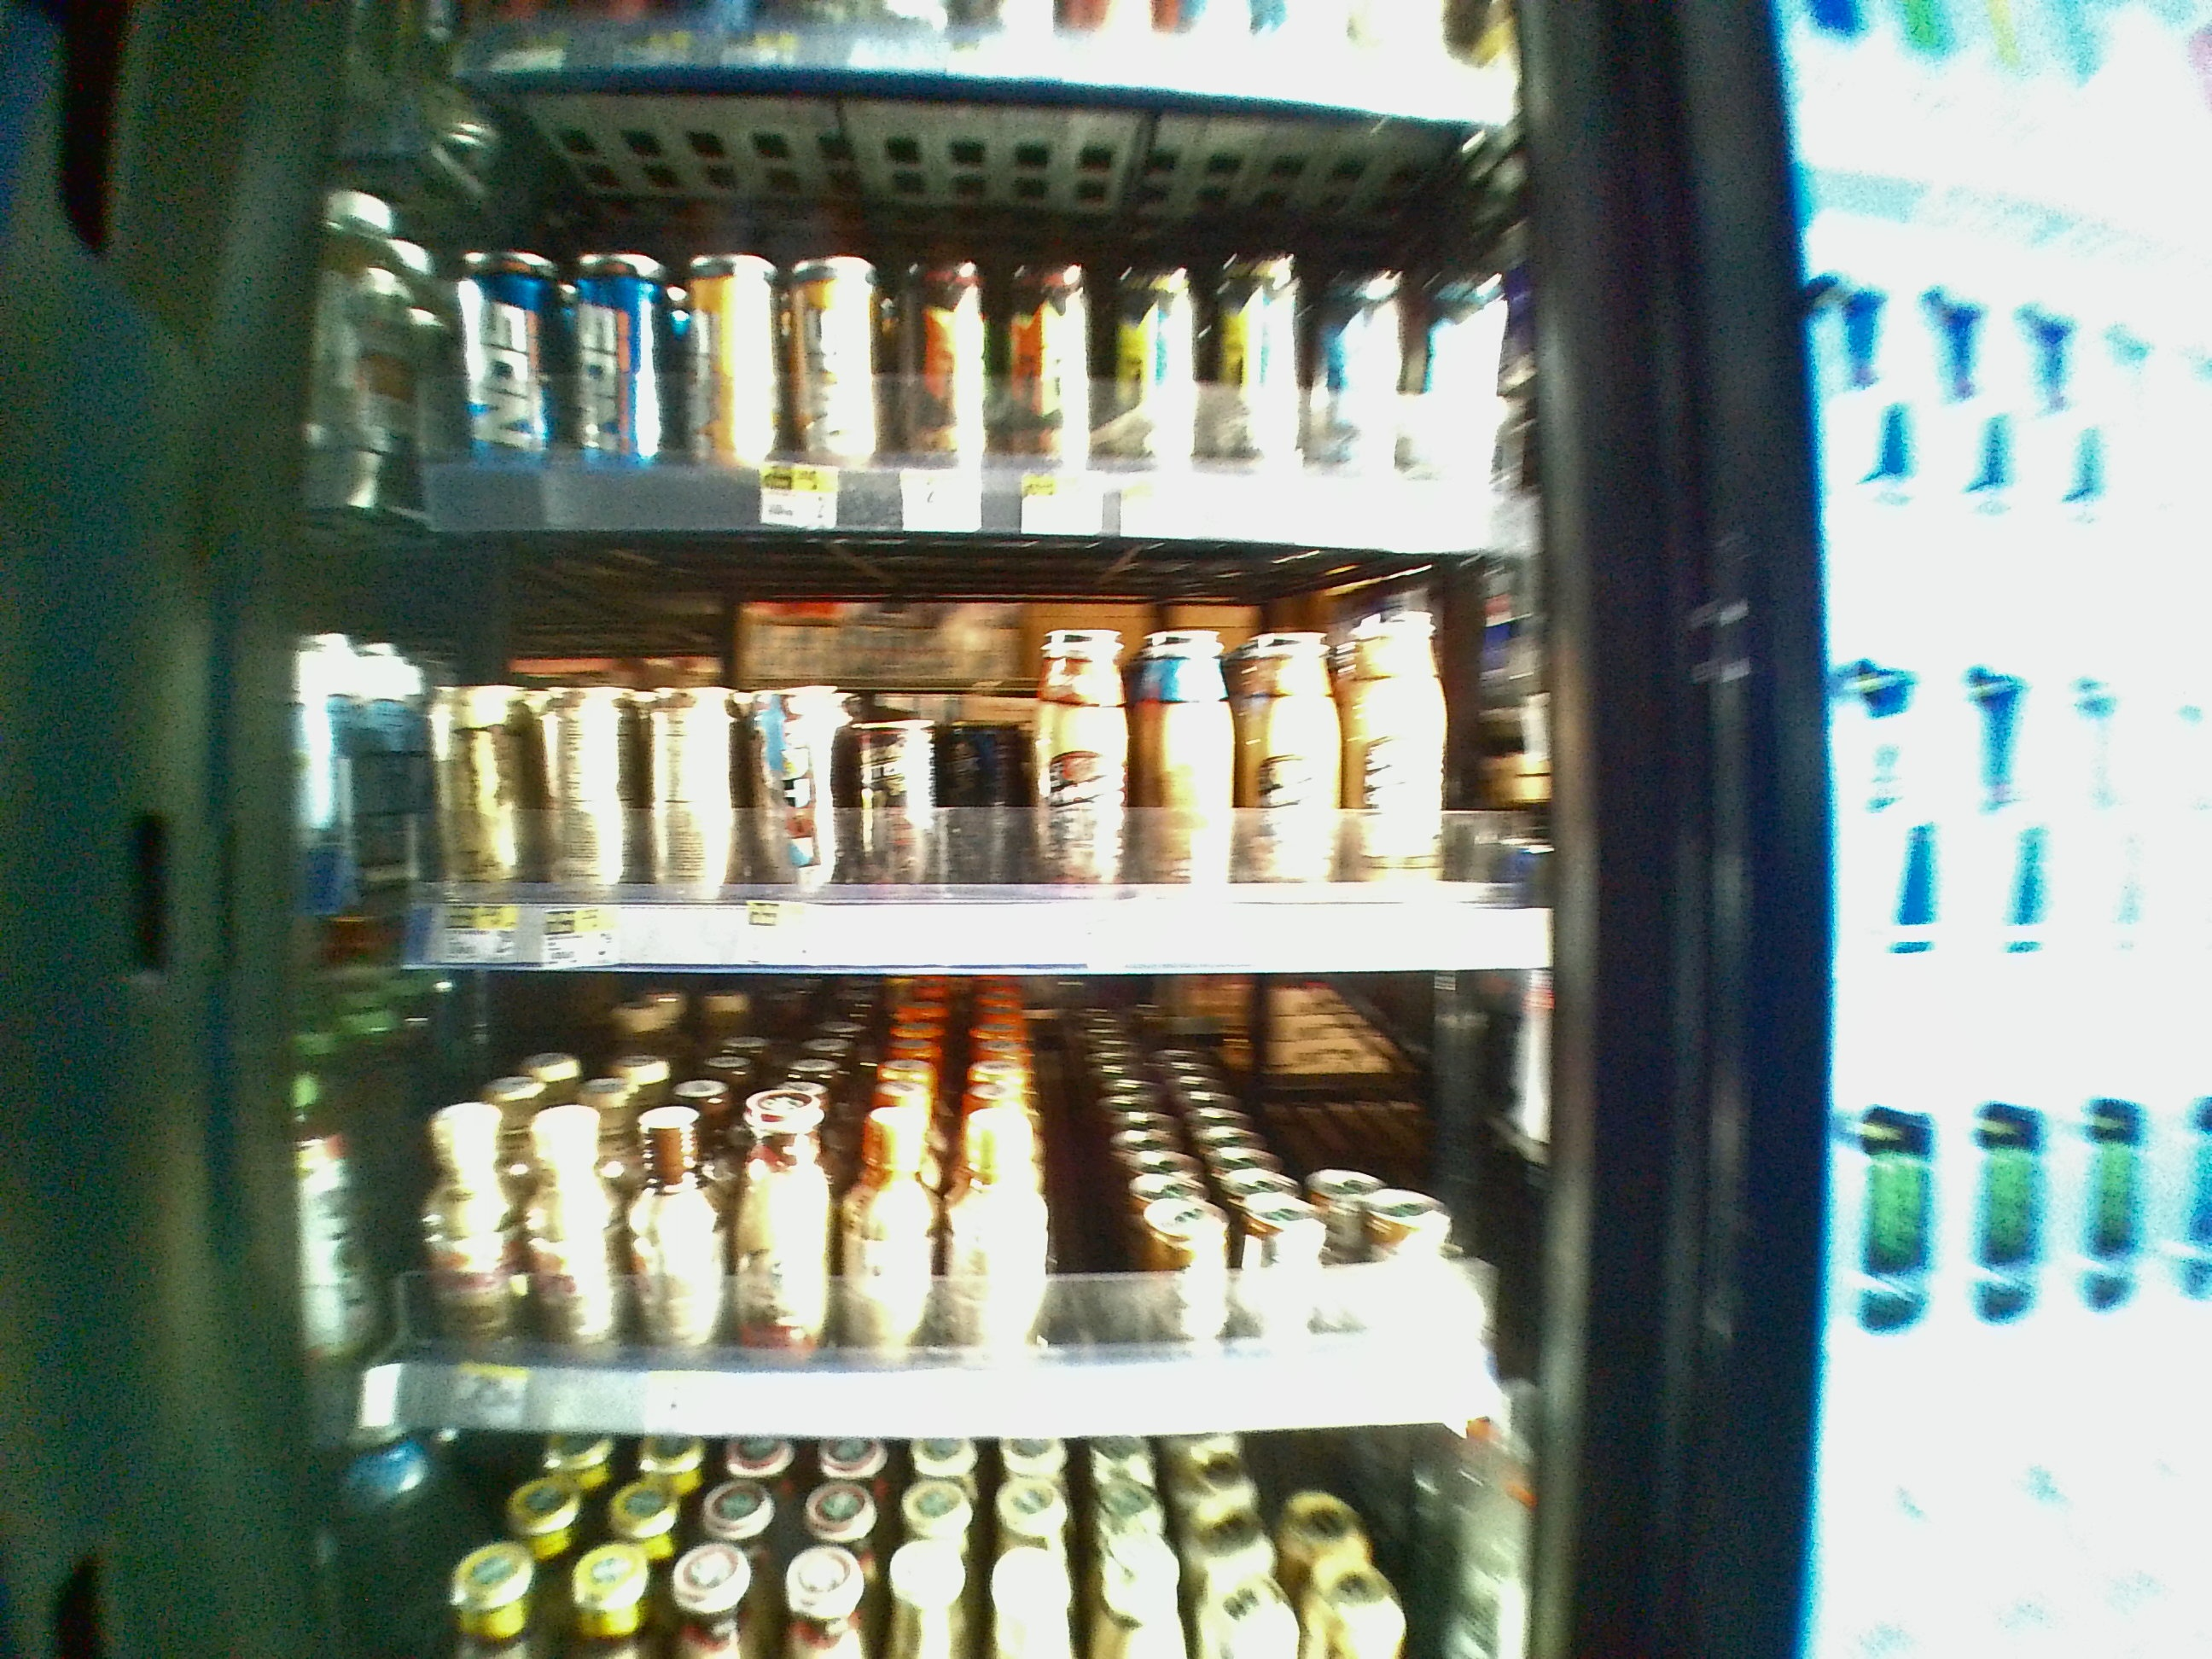shelf: (270, 967, 1576, 1439), (280, 535, 1575, 972)
